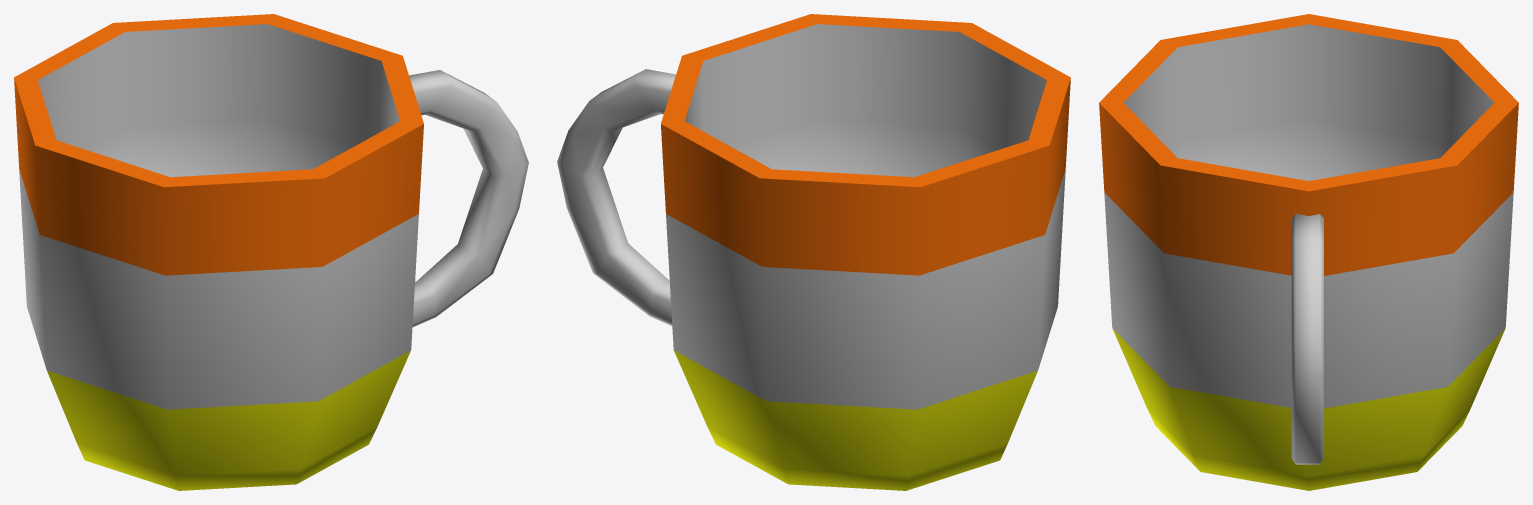
Rendered from Coffee_Cup_08.FBX.
3 views of the same model, side by side, from view 1: azimuth 30°, elevation 25°; view 2: azimuth 150°, elevation 25°; view 3: azimuth 270°, elevation 25° (orthographic).
Visible parts, largest first — view 1: Coffee Cup; view 2: Coffee Cup; view 3: Coffee Cup.
Boxes of the visible parts, bbox=[...] form: Coffee Cup: bbox=[14, 14, 528, 490]; Coffee Cup: bbox=[557, 14, 1070, 490]; Coffee Cup: bbox=[1099, 14, 1518, 490].
Size of the model in its own units: 44.01 by 28.24 by 33.22.
